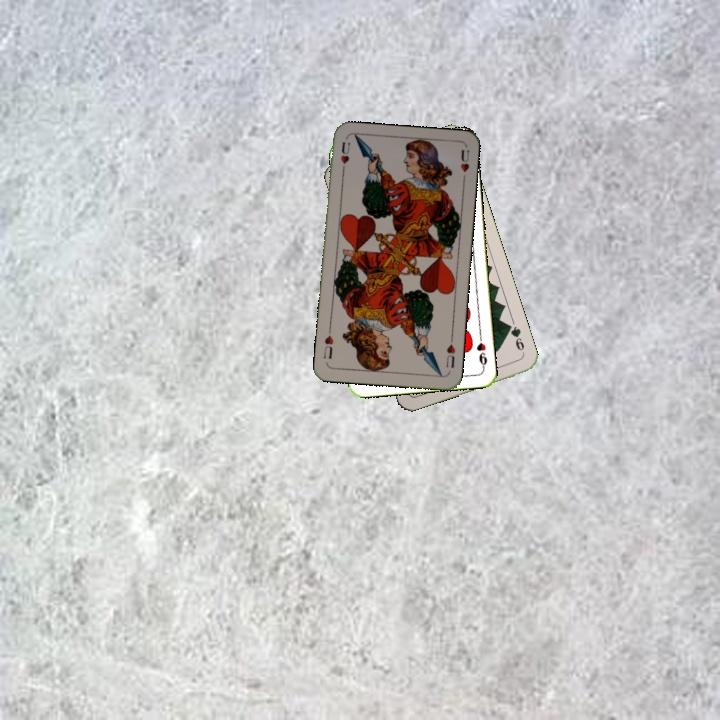G9: (503, 320, 527, 358)
H9: (472, 330, 490, 371)
HU: (336, 138, 352, 177), (442, 333, 458, 370)
